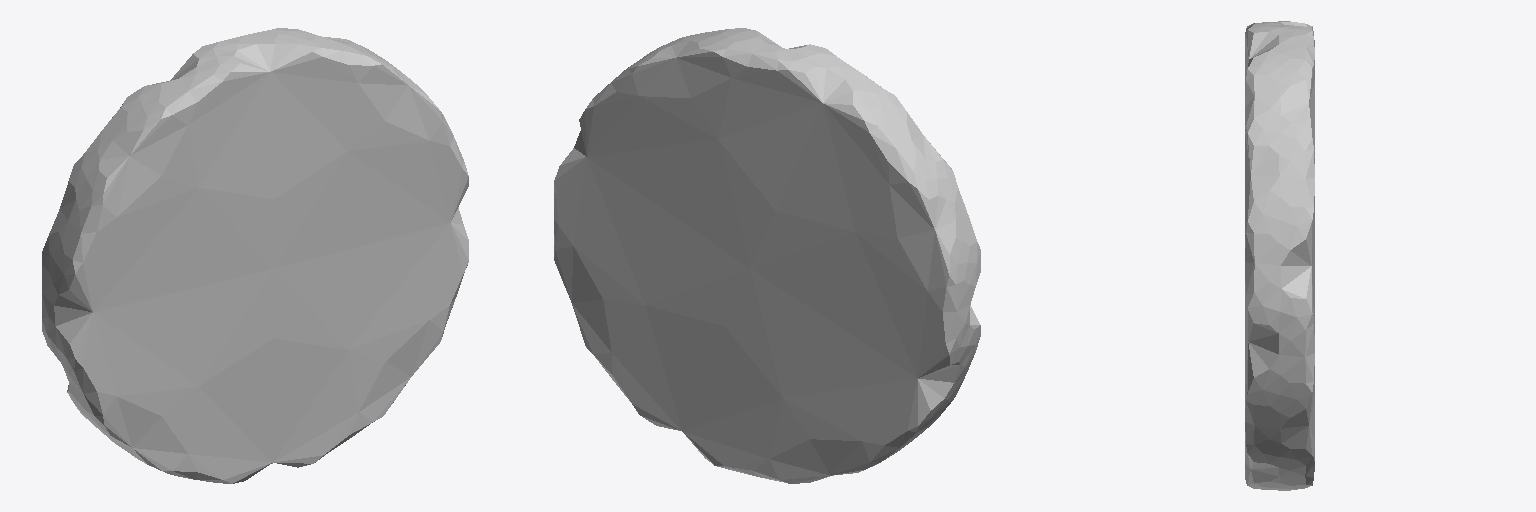
File: coin_high.obj
3 renders of one model, left to right at view 1: azimuth 30°, elevation 25°; view 2: azimuth 150°, elevation 25°; view 3: azimuth 270°, elevation 25°, orthographic.
Visible parts, largest first — view 1: coin_low; view 2: coin_low; view 3: coin_low.
Part boxes in pixels (x1,y1,x2,y2): coin_low: (42,28,468,483); coin_low: (554,28,980,483); coin_low: (1245,21,1314,490).
Bounding box in the file's own units: 0.9345 × 0.9353 × 0.1407.